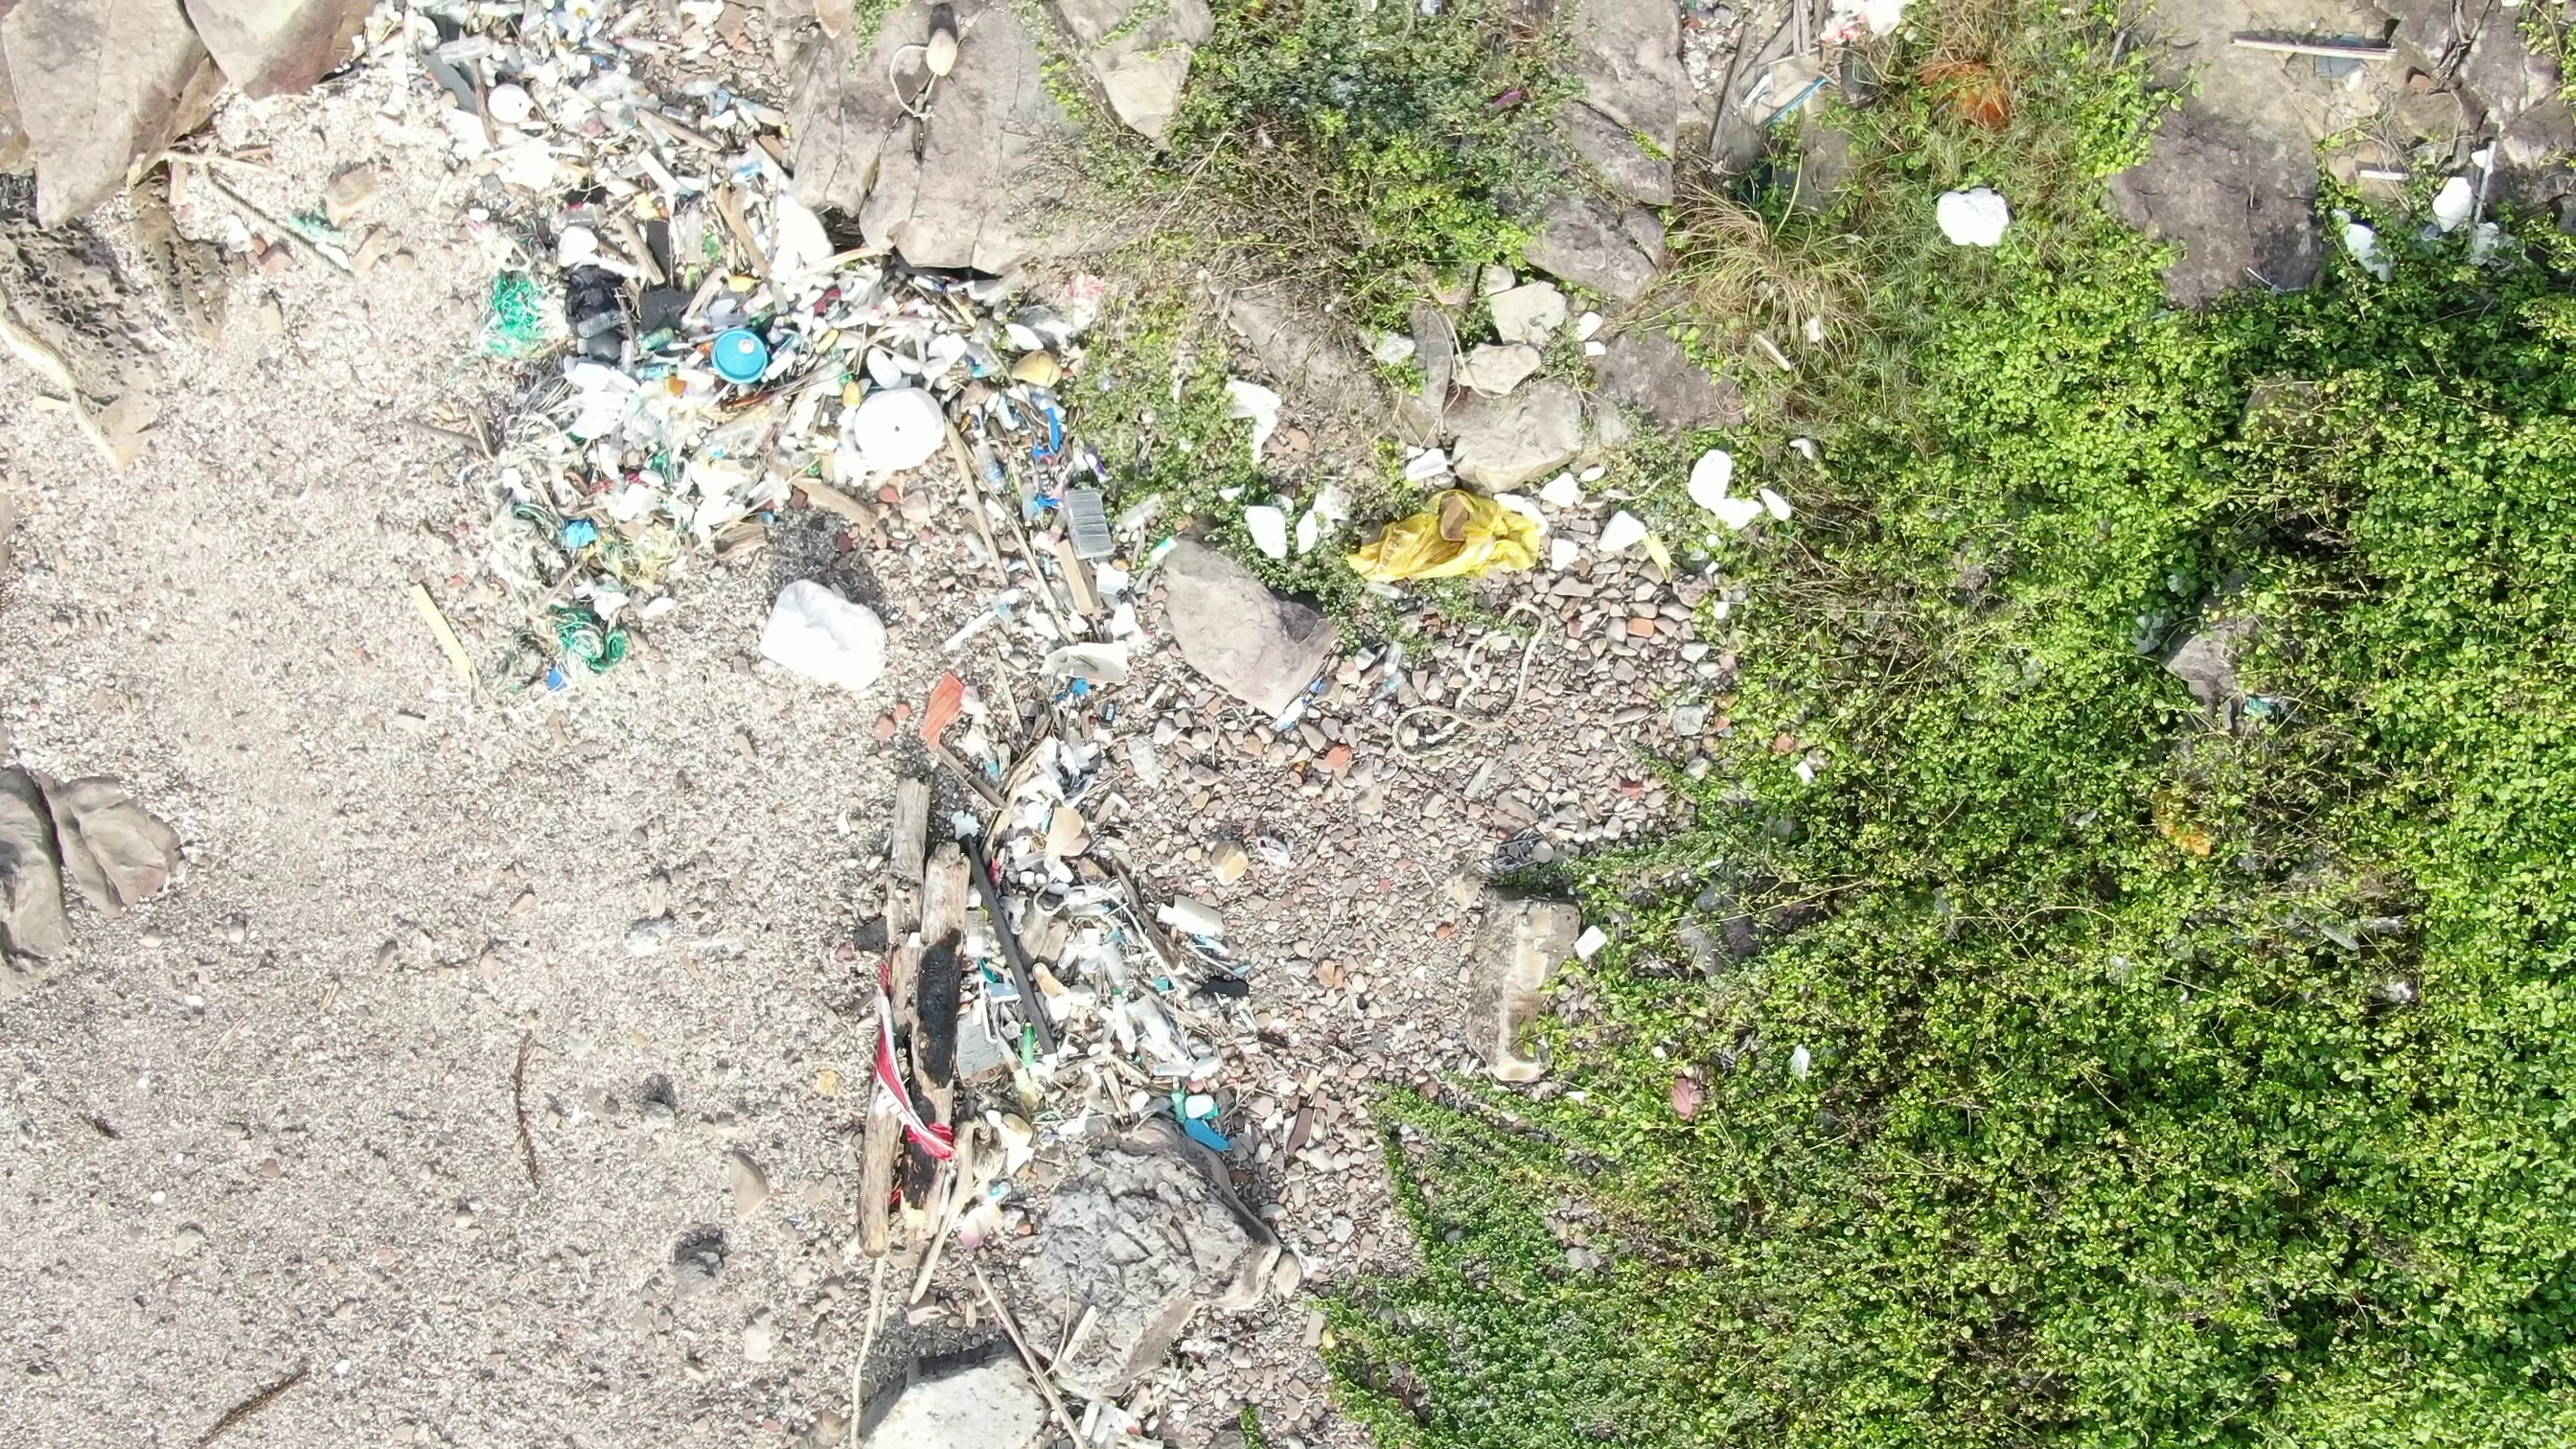garbage: (354, 4, 1063, 557), (886, 734, 1251, 1187), (1330, 448, 1583, 612), (1729, 4, 1951, 117), (1067, 451, 1141, 755), (517, 579, 669, 685), (1684, 441, 1812, 534), (1930, 186, 2019, 257)
